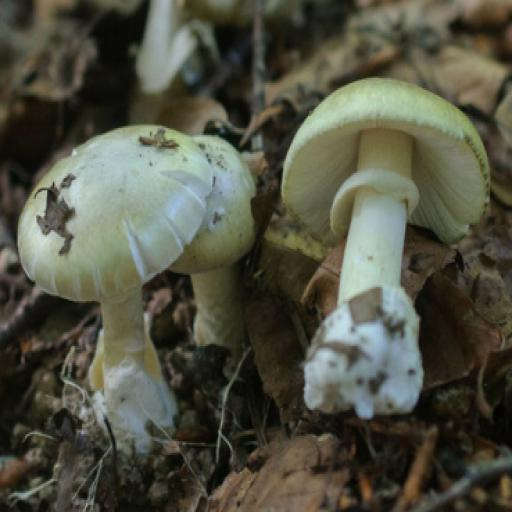mushroom: (0, 86, 333, 456), (213, 54, 512, 431)
